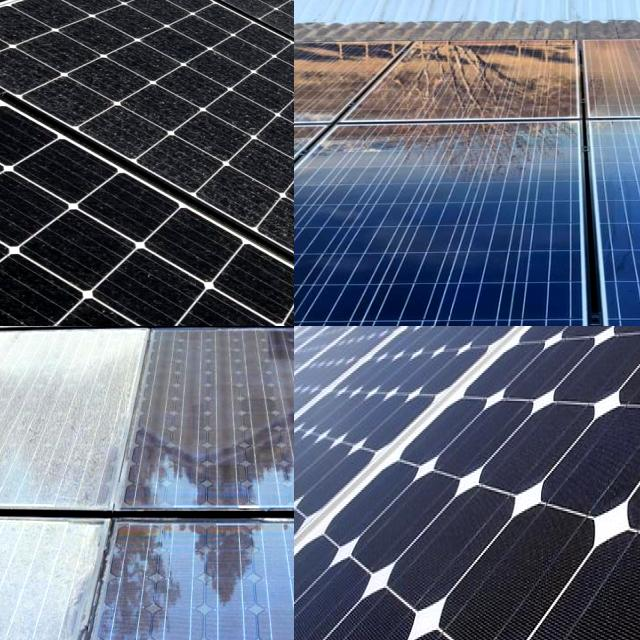crack: (294, 326, 640, 640), (294, 108, 640, 326), (338, 36, 628, 133), (541, 97, 640, 326), (560, 32, 640, 133)
dust: (0, 333, 129, 509), (0, 200, 168, 326), (26, 17, 168, 156), (207, 140, 294, 294), (231, 0, 294, 108), (148, 0, 263, 46), (0, 0, 114, 46), (0, 326, 147, 360)
